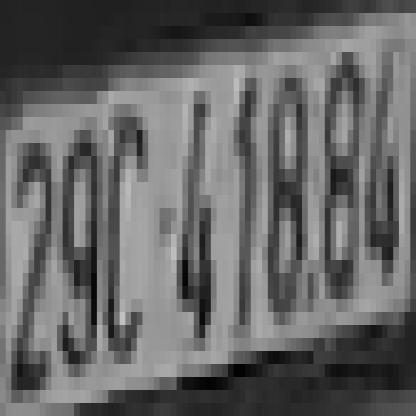1: (216, 78, 257, 312)
2: (11, 143, 52, 377)
4: (359, 39, 393, 273), (177, 91, 211, 325)
8: (262, 65, 302, 312), (319, 52, 359, 286)
9: (57, 130, 103, 364)
C: (108, 104, 142, 351)
